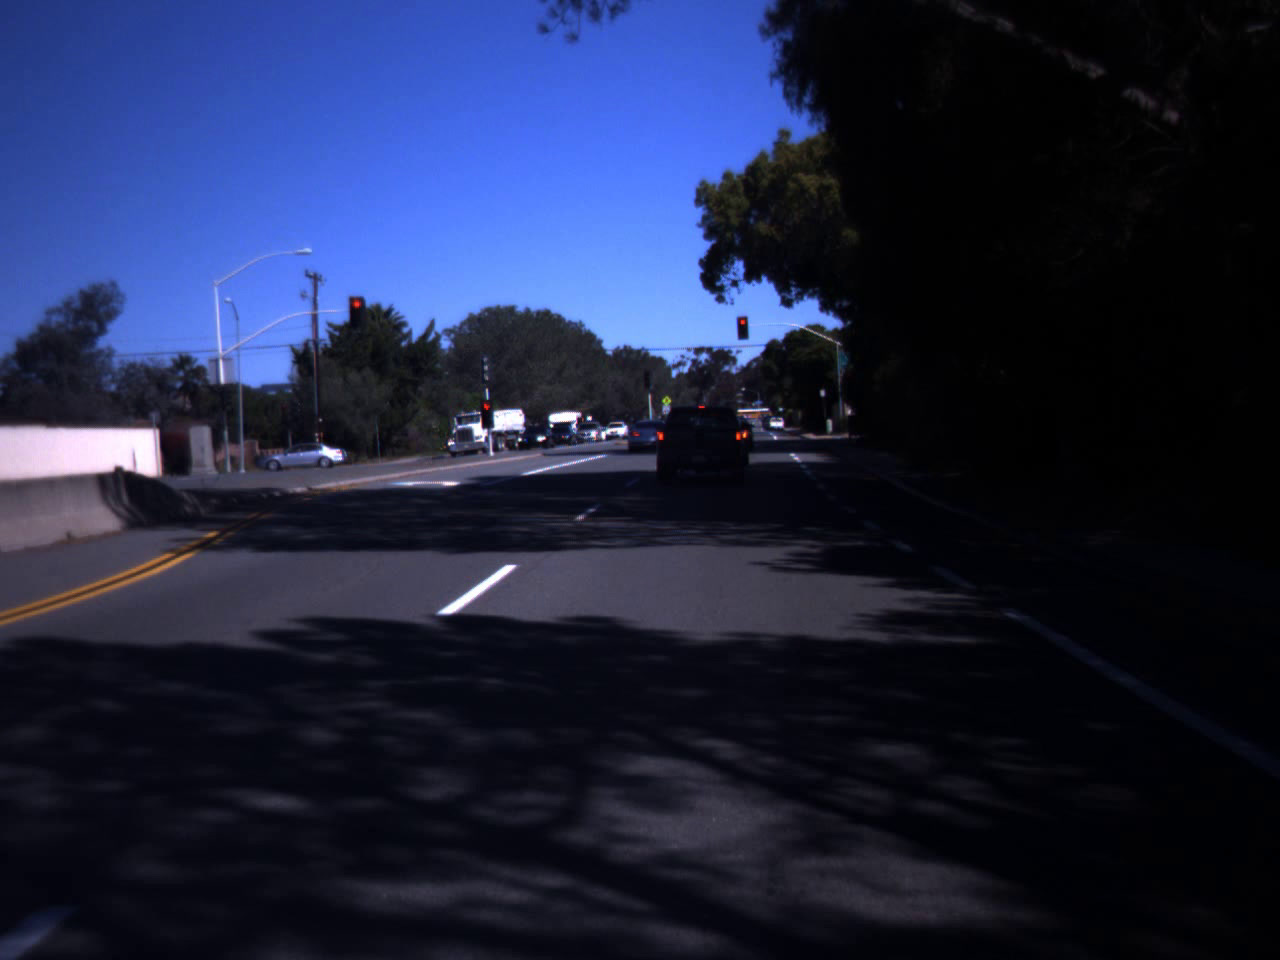stop: (480, 401, 492, 428), (735, 318, 750, 336), (351, 300, 363, 318)
